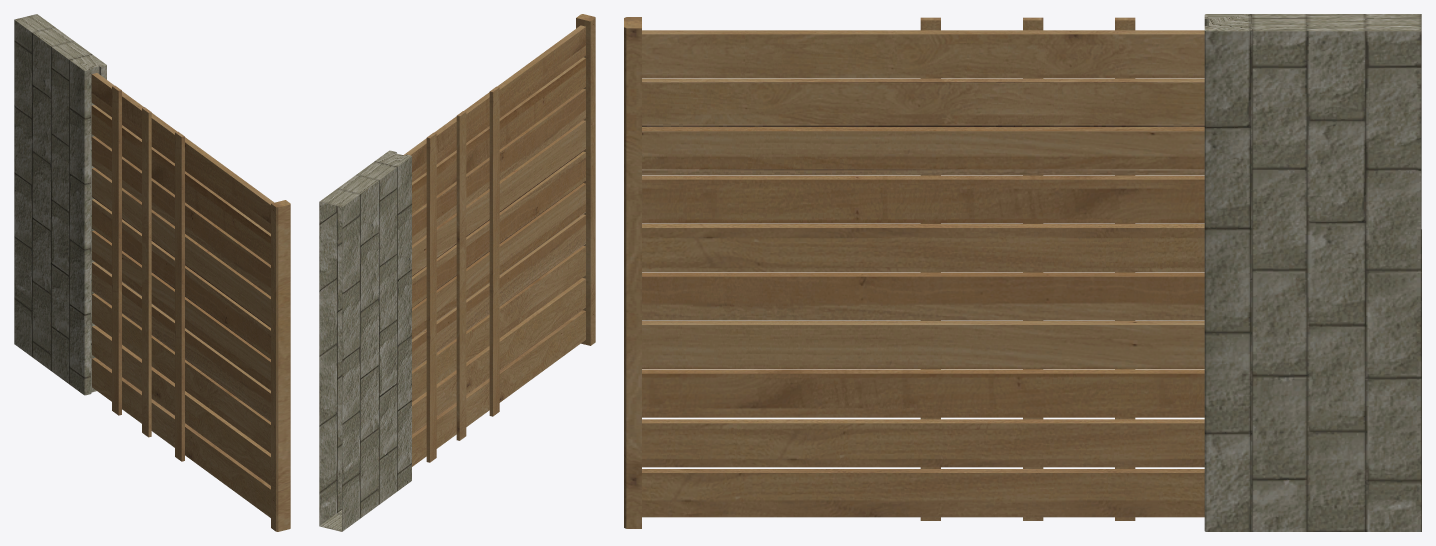
The model's file is nt_concrete_fence_straight_tall_LOD0.obj.
3 views of the same model, side by side, from view 1: azimuth 30°, elevation 25°; view 2: azimuth 150°, elevation 25°; view 3: azimuth 270°, elevation 25° (orthographic). The views are drawn at different scales.
Visible parts, largest first — view 1: nt_wood_fence, nt_2020_concrete_pattern_02; view 2: nt_wood_fence, nt_2020_concrete_pattern_02; view 3: nt_wood_fence, nt_2020_concrete_pattern_02.
Boxes of the visible parts, left/top/right/bottom form: nt_wood_fence: left=91, top=73, right=290, bottom=531; nt_2020_concrete_pattern_02: left=14, top=14, right=106, bottom=395; nt_wood_fence: left=403, top=14, right=595, bottom=466; nt_2020_concrete_pattern_02: left=319, top=150, right=411, bottom=531; nt_wood_fence: left=624, top=17, right=1204, bottom=528; nt_2020_concrete_pattern_02: left=1204, top=14, right=1421, bottom=531.
Bounding box in the file's own units: 10.16 × 137 × 198.
